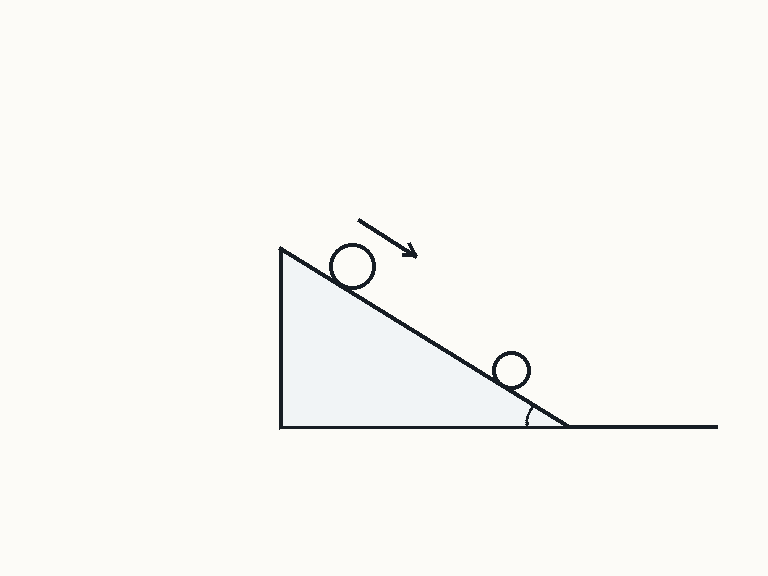ball: (327, 241, 377, 291), (490, 349, 532, 391)
ramp: (277, 246, 568, 429)
